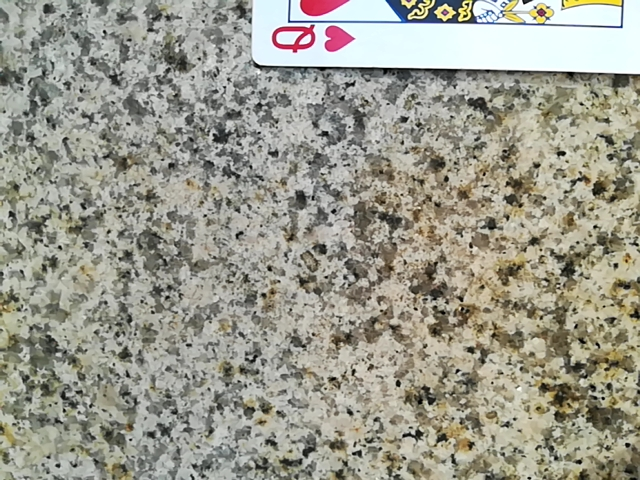hx q: (260, 0, 640, 74)
